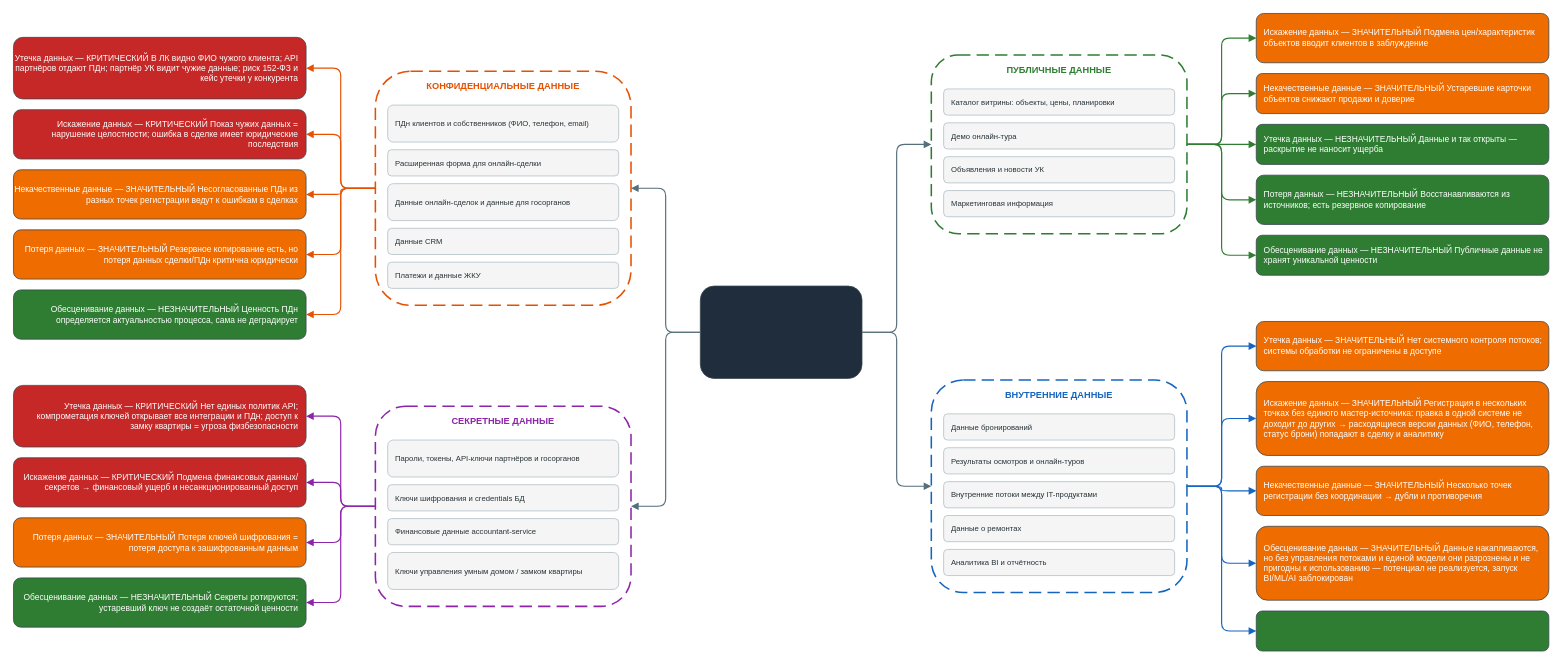
The diagram is 1562 pixels wide and 665 high, and some of its shapes have lost their labels. Here are the shapes that lost their labels. From the top down, the centre of each, then its label:
the point at 781,331: БЕЗОПАСНОСТЬ ДАННЫХ PropDevelopment
the point at 1402,630: Потеря данных — НЕЗНАЧИТЕЛЬНЫЙ Настроено резервное копирование на нужную глубину
